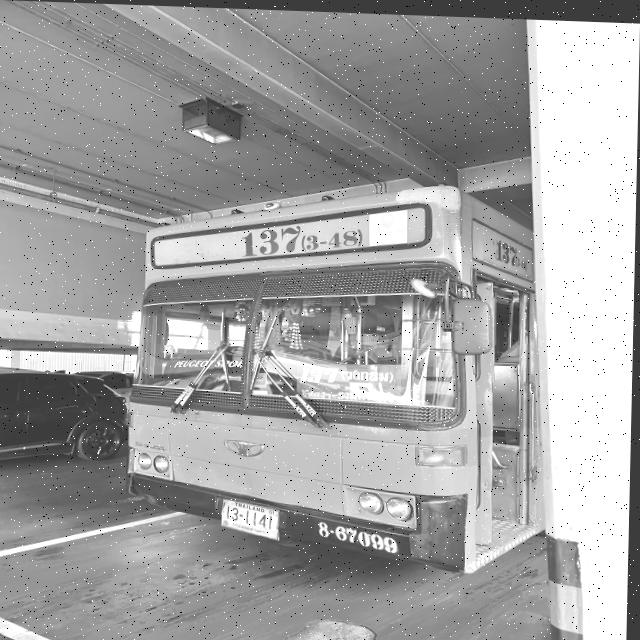BMTA-bus: (124, 173, 550, 573)
Bus-Line-Number: (236, 208, 367, 261)
Destination-Sign-Normal: (298, 358, 406, 405)
